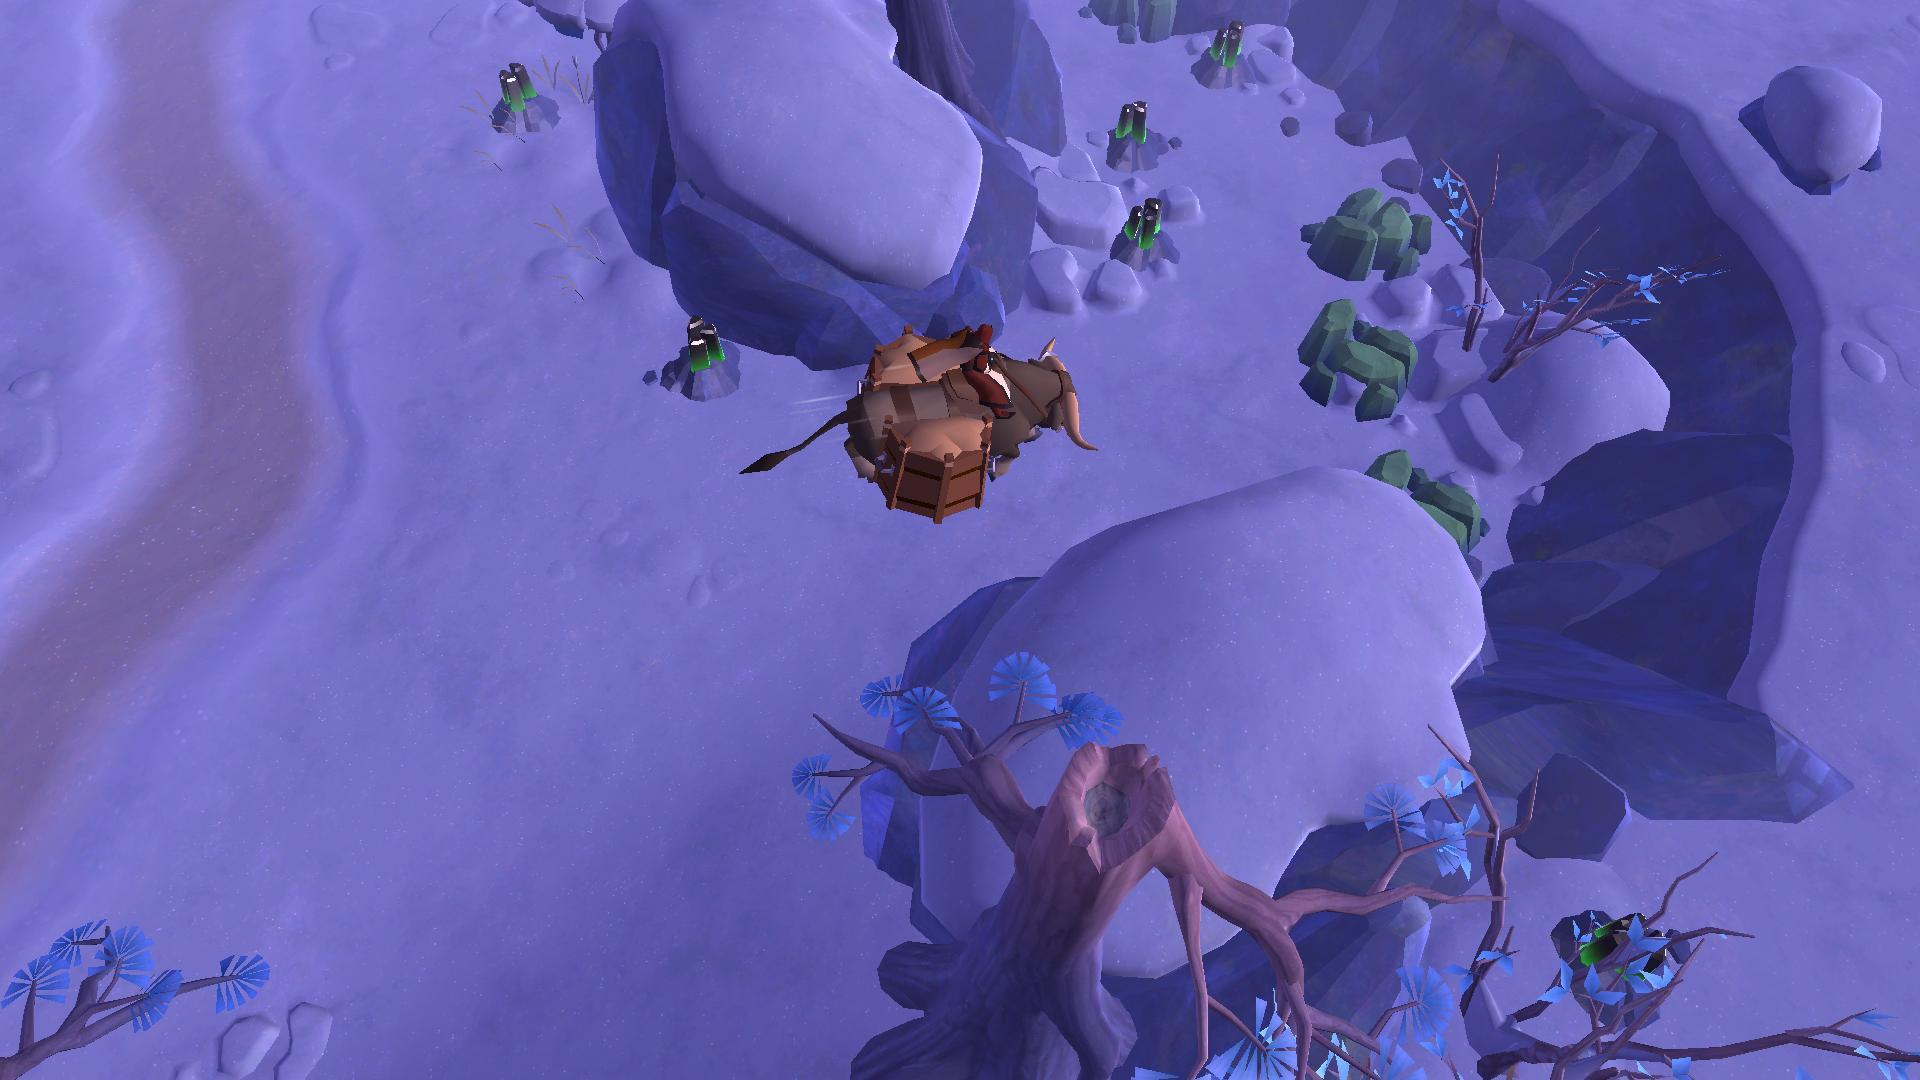ore_t3: (1200, 12, 1250, 74), (1121, 189, 1163, 252), (673, 319, 721, 372), (1113, 88, 1151, 156), (489, 54, 533, 109)
rock_t3: (1282, 309, 1444, 427), (1345, 435, 1494, 562), (1303, 173, 1457, 287)
